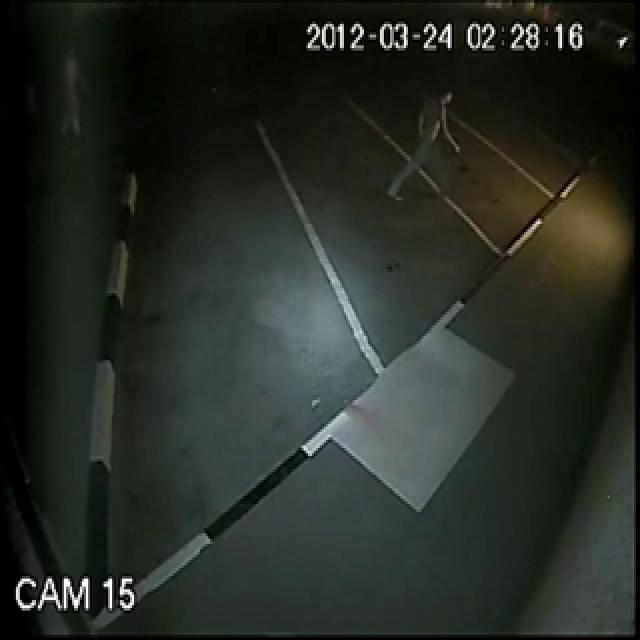vandalism: (370, 39, 624, 362)
